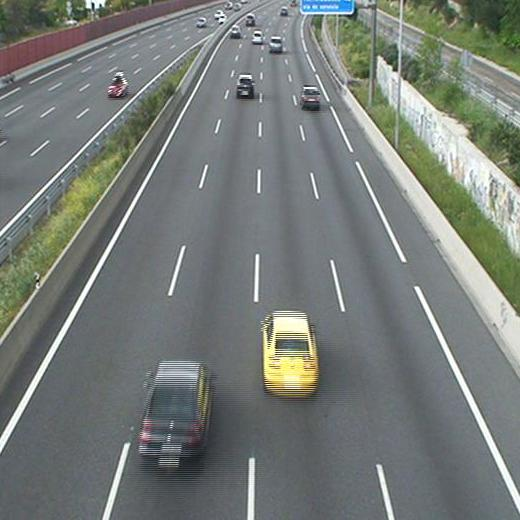car: (138, 361, 215, 467), (260, 310, 320, 400), (300, 85, 321, 111), (237, 74, 255, 98), (269, 36, 283, 53), (252, 30, 263, 44), (230, 25, 241, 39)
